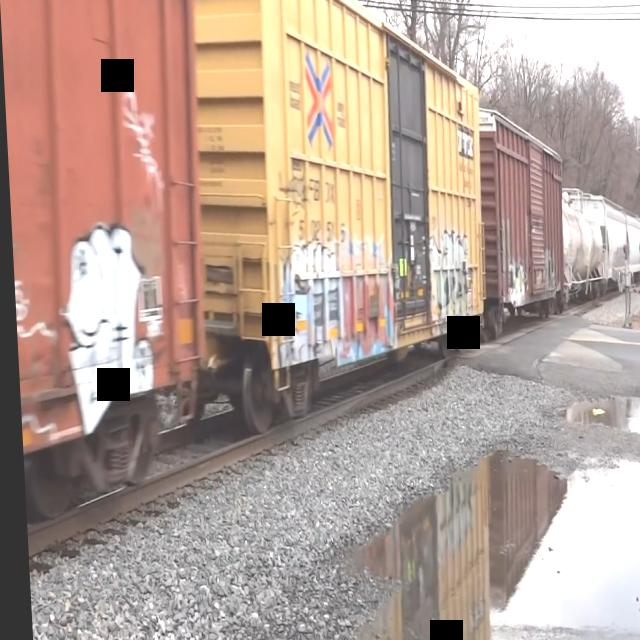boxcar: (188, 4, 494, 436), (0, 0, 215, 546), (474, 100, 567, 332)
